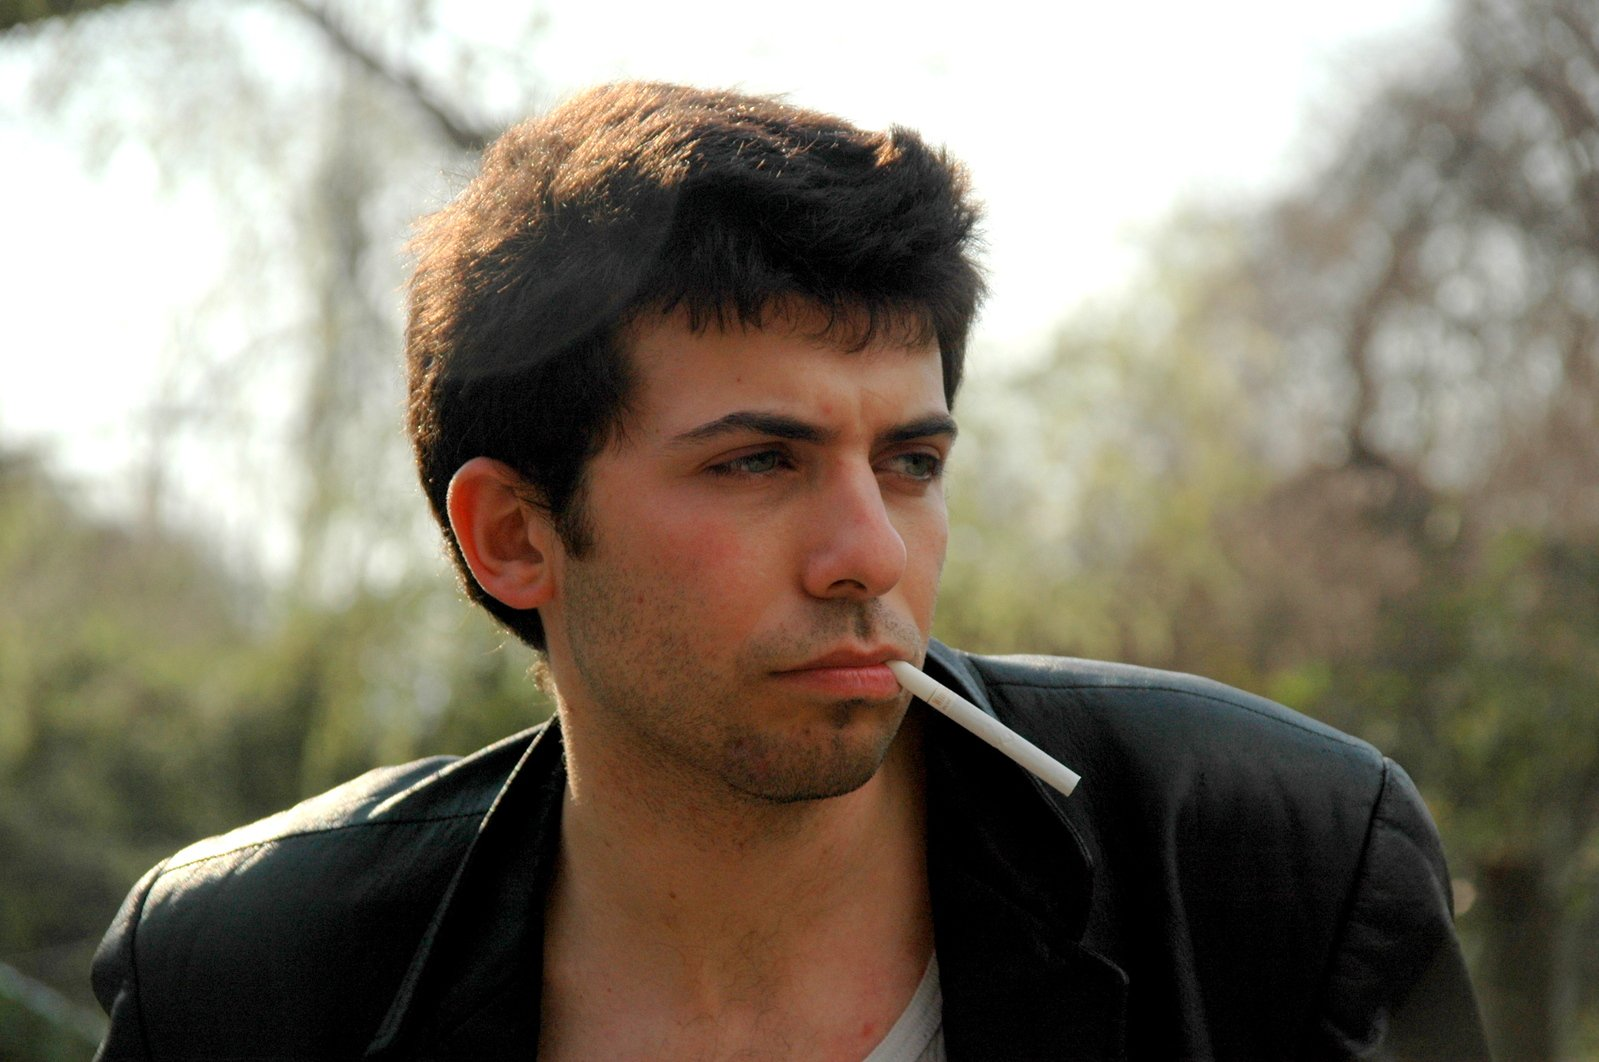cigarette: (887, 655, 1086, 805)
